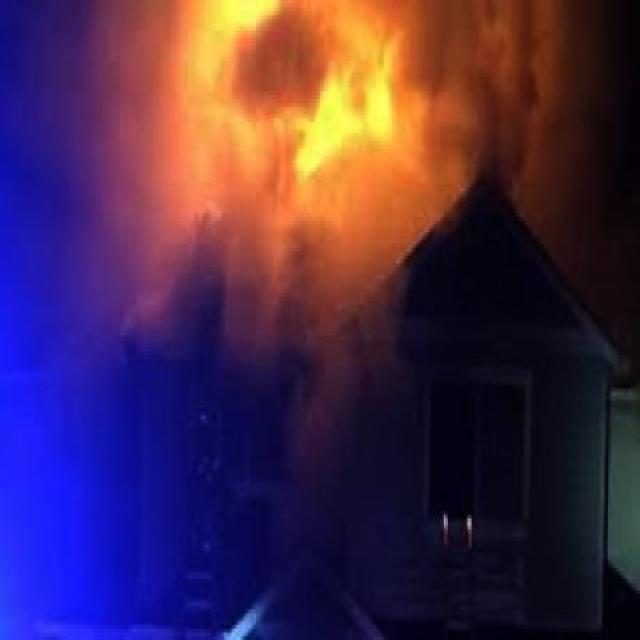Fire: (189, 0, 415, 176)
Smoke: (167, 181, 430, 447), (413, 0, 605, 257), (67, 0, 188, 312)
